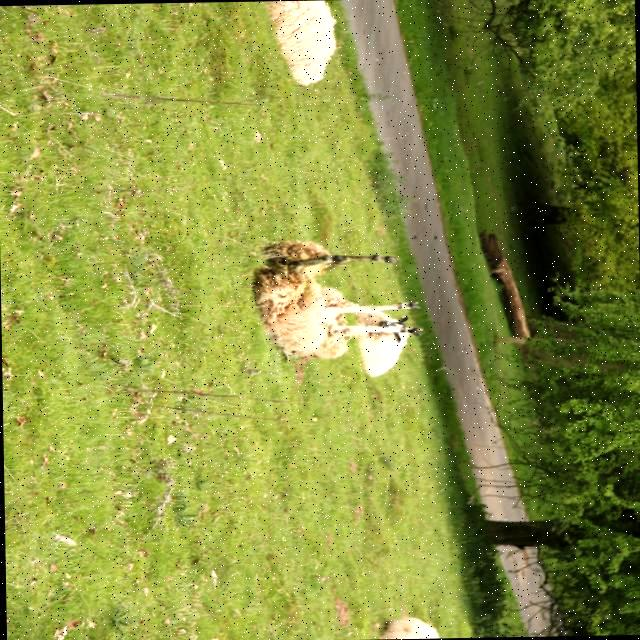sheep: (250, 239, 422, 357), (269, 0, 336, 85), (359, 312, 408, 374), (381, 617, 439, 638)
